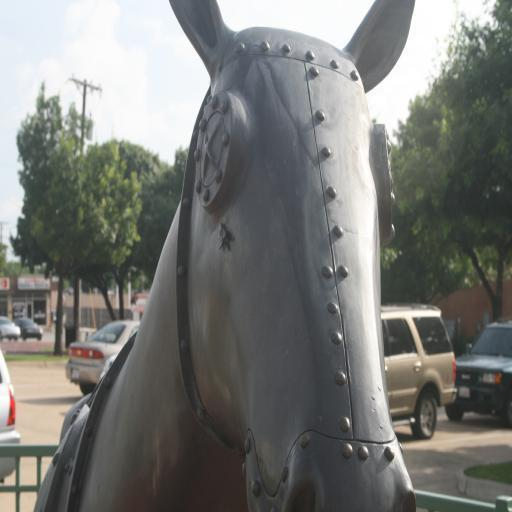horse: (34, 0, 416, 512)
